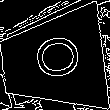O_W: (25, 37, 81, 86)
